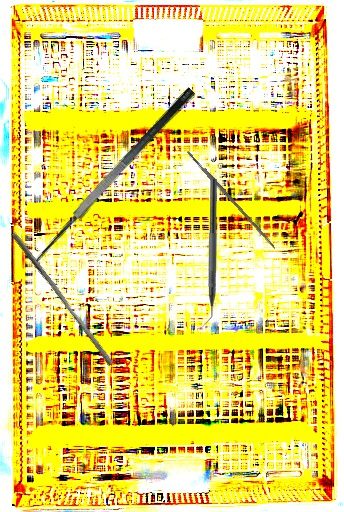Chopper: (200, 178, 217, 330)
Pusher: (5, 231, 119, 367)
Scalpel Handle: (185, 149, 278, 250)
Spatula Surgical: (24, 86, 211, 278)
